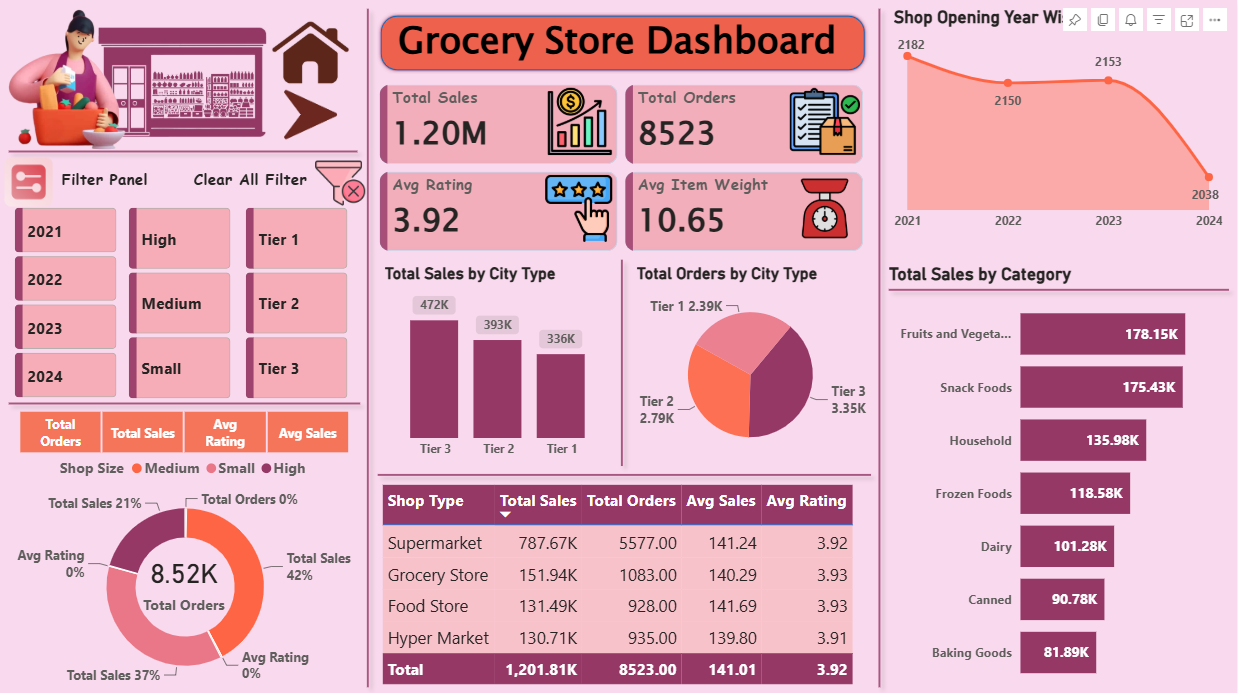

The dashboard page shown, as its layout file describes it:
{"tool":"powerbi","page":{"name":"Detailed Dashboard","canvas":[1280,720],"ordinal":0},"visuals":[{"type":"image","box":[64.8,18.7,226.1,132.5],"z":0},{"type":"cardVisual","fields":{"Data":["Grocery Shop.Total Sales","Grocery Shop.Total Orders","Grocery Shop.Avg Rating","Grocery Shop.Avg Item Weight"]},"box":[382.9,77.1,520,192.9],"z":1000},{"type":"shape","box":[368.6,0,24.5,720],"z":2000},{"type":"image","box":[263.5,7.2,115.2,86.4],"z":3000},{"type":"shape","box":[0,136.8,378.7,40.3],"z":4000},{"type":"image","box":[0,159.4,59,57.6],"z":5000},{"type":"image","box":[325.4,161.3,51.8,56.2],"z":6000},{"type":"textbox","box":[59,168.5,105.1,41.8],"z":7000},{"type":"textbox","box":[195.8,168.5,129.6,41.8],"z":8000},{"type":"shape","box":[0,397,381.6,40.3],"z":9000},{"type":"slicer","fields":{"Values":["Custom Slicer.Custom Slicer"]},"box":[0,417.6,378.7,56.2],"z":10000},{"type":"donutChart","fields":{"Y":["Grocery Shop.Total Orders","Grocery Shop.Total Sales","Grocery Shop.Avg Rating","Grocery Shop.Avg Sales"],"Category":["Grocery Shop.Shop Size"]},"box":[7.2,463.7,368.6,256.3],"z":11000},{"type":"card","fields":{"Values":["Grocery Shop.Total Orders"]},"box":[123.8,548.6,132.5,106.6],"z":12000},{"type":"clusteredColumnChart","title":"Total Sales by City Type","fields":{"Y":["Grocery Shop.Total Sales"],"Category":["Grocery Shop.Shop City Type"]},"box":[392.9,272.9,245.7,210],"z":13000},{"type":"shape","box":[627.1,260,32.9,231.4],"z":14000},{"type":"pieChart","title":"Total Orders by City Type","fields":{"Category":["Grocery Shop.Shop City Type"],"Y":["Grocery Shop.Total Orders"]},"box":[653.3,273.3,245,210],"z":15000},{"type":"lineChart","title":"Shop Opening Year Wise","fields":{"Category":["Grocery Shop.Shop Opening Year"],"Y":["CountNonNull(Grocery Shop.Shop Code)"]},"box":[920.2,7.2,349.9,239],"z":16000},{"type":"shape","box":[898.6,0,21.6,720],"z":17000},{"type":"shape","box":[910,285.7,370,28.6],"z":18000},{"type":"clusteredBarChart","fields":{"Y":["Grocery Shop.Total Sales"],"Category":["Grocery Shop.Category"]},"box":[920.2,273.6,360,446.4],"z":19000},{"type":"shape","box":[381.7,478.3,528.3,26.7],"z":20000},{"type":"tableEx","fields":{"Values":["Grocery Shop.Shop Type","Grocery Shop.Total Sales","Grocery Shop.Total Orders","Grocery Shop.Avg Sales","Grocery Shop.Avg Rating"]},"box":[390.2,496.8,506.9,218.9],"z":21000},{"type":"advancedSlicerVisual","fields":{"Values":["Grocery Shop.Shop Opening Year"]},"box":[10.1,210.2,115.2,208.8],"z":22000},{"type":"advancedSlicerVisual","fields":{"Values":["Grocery Shop.Shop Size"]},"box":[128.2,210.2,115.2,208.8],"z":23000},{"type":"advancedSlicerVisual","fields":{"Values":["Grocery Shop.Shop City Type"]},"box":[249.1,210.2,115.2,208.8],"z":24000},{"type":"shape","box":[390,12.9,508.6,64.3],"z":25000},{"type":"textbox","box":[397.1,7.1,482.9,77.1],"z":26000},{"type":"image","box":[293.8,90.7,54.7,54.7],"z":27000},{"type":"image","box":[0,7.2,145.4,149.8],"z":28000}]}

Visuals, with their boxes in screenshot pixels (x1, y1, x2, y2), scaled from the page's 1280x720 canvas onto the 1238x693 screenshot:
image: <bbox>63, 18, 281, 146</bbox>
cardVisual - Grocery Shop.Total Sales x Grocery Shop.Total Orders: <bbox>370, 74, 873, 260</bbox>
shape: <bbox>357, 0, 380, 692</bbox>
image: <bbox>255, 7, 366, 90</bbox>
shape: <bbox>0, 132, 366, 170</bbox>
image: <bbox>0, 153, 57, 209</bbox>
image: <bbox>315, 155, 365, 209</bbox>
textbox: <bbox>57, 162, 159, 202</bbox>
textbox: <bbox>189, 162, 315, 202</bbox>
shape: <bbox>0, 382, 369, 421</bbox>
slicer - Custom Slicer.Custom Slicer: <bbox>0, 402, 366, 456</bbox>
donutChart - Grocery Shop.Total Orders x Grocery Shop.Total Sales: <bbox>7, 446, 363, 692</bbox>
card - Grocery Shop.Total Orders: <bbox>120, 528, 248, 631</bbox>
"Total Sales by City Type" clusteredColumnChart: <bbox>380, 263, 618, 465</bbox>
shape: <bbox>607, 250, 638, 473</bbox>
"Total Orders by City Type" pieChart: <bbox>632, 263, 869, 465</bbox>
"Shop Opening Year Wise" lineChart: <bbox>890, 7, 1228, 237</bbox>
shape: <bbox>869, 0, 890, 692</bbox>
shape: <bbox>880, 275, 1237, 303</bbox>
clusteredBarChart - Grocery Shop.Total Sales x Grocery Shop.Category: <bbox>890, 263, 1237, 692</bbox>
shape: <bbox>369, 460, 880, 486</bbox>
tableEx - Grocery Shop.Shop Type x Grocery Shop.Total Sales: <bbox>377, 478, 868, 689</bbox>
advancedSlicerVisual - Grocery Shop.Shop Opening Year: <bbox>10, 202, 121, 403</bbox>
advancedSlicerVisual - Grocery Shop.Shop Size: <bbox>124, 202, 235, 403</bbox>
advancedSlicerVisual - Grocery Shop.Shop City Type: <bbox>241, 202, 352, 403</bbox>
shape: <bbox>377, 12, 869, 74</bbox>
textbox: <bbox>384, 7, 851, 81</bbox>
image: <bbox>284, 87, 337, 140</bbox>
image: <bbox>0, 7, 141, 151</bbox>
